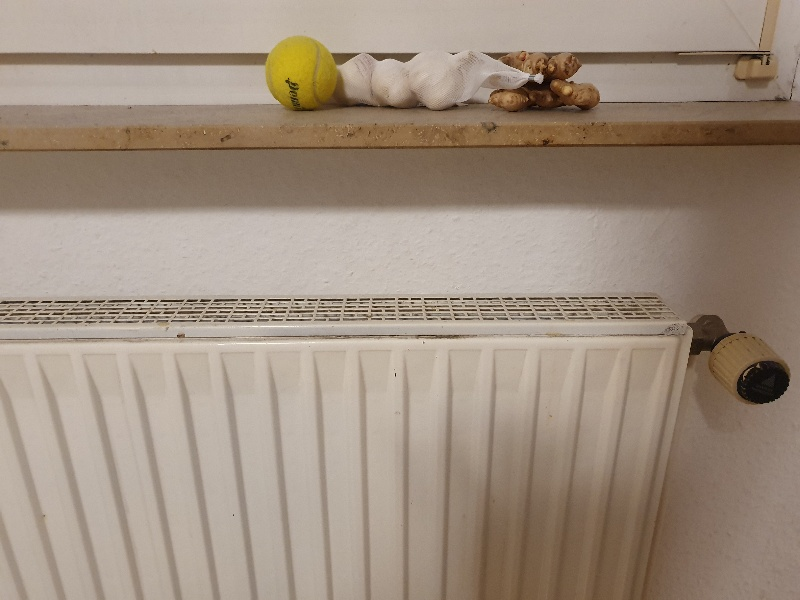Tennisball: (257, 26, 347, 115)
